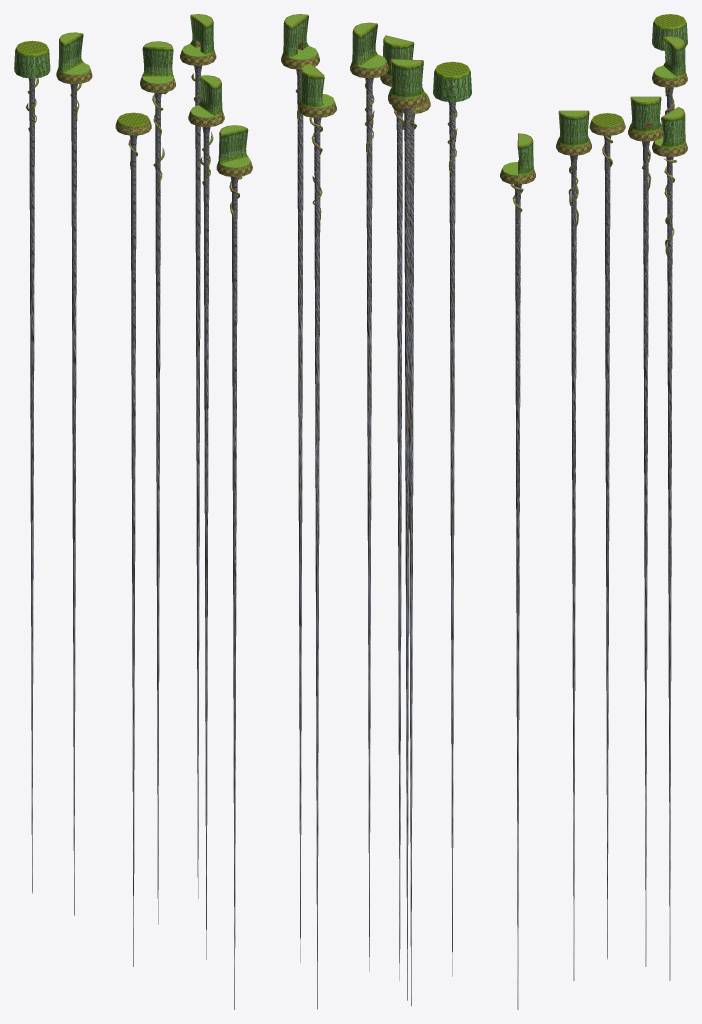
Rendered from Frog Forest 7.fbx.
3 views of the same model, side by side, from view 1: azimuth 30°, elevation 25°; view 2: azimuth 150°, elevation 25°; view 3: azimuth 270°, elevation 25° (orthographic). The views are drawn at different scales.
Visible parts, largest first — view 1: Object_2.009, Object_2.008; view 2: Object_2.009, Object_2.008; view 3: Object_2.009, Object_2.008.
Boxes of the visible parts, box(x1,y1,x2,y2) form: Object_2.009: box(14, 15, 252, 1009); Object_2.008: box(16, 14, 250, 167); Object_2.009: box(281, 15, 471, 1009); Object_2.008: box(284, 14, 469, 106); Object_2.009: box(500, 21, 687, 1009); Object_2.008: box(502, 14, 685, 175).
Bounding box in the file's own units: 132430 × 640374 × 117433.
